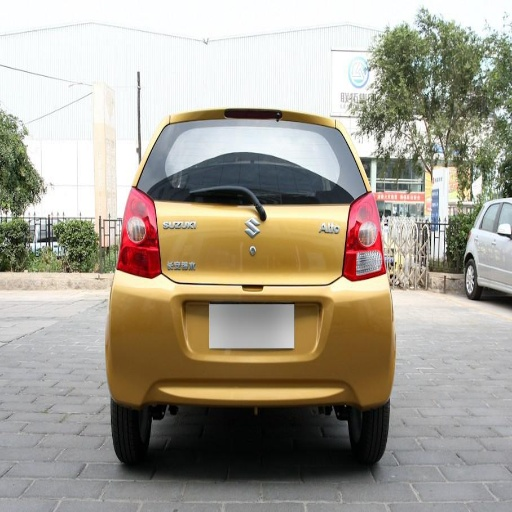back_bumper: (114, 274, 390, 399)
back_left_light: (117, 188, 160, 276)
trunk: (152, 193, 368, 359)
